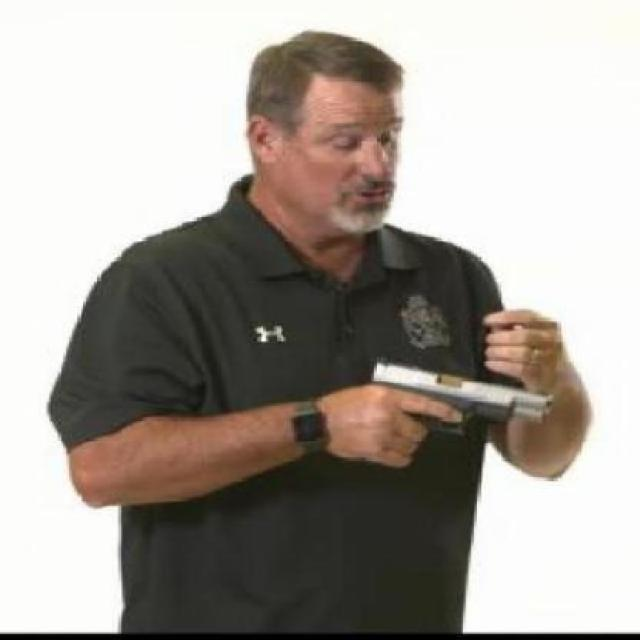gun: (346, 359, 557, 467)
